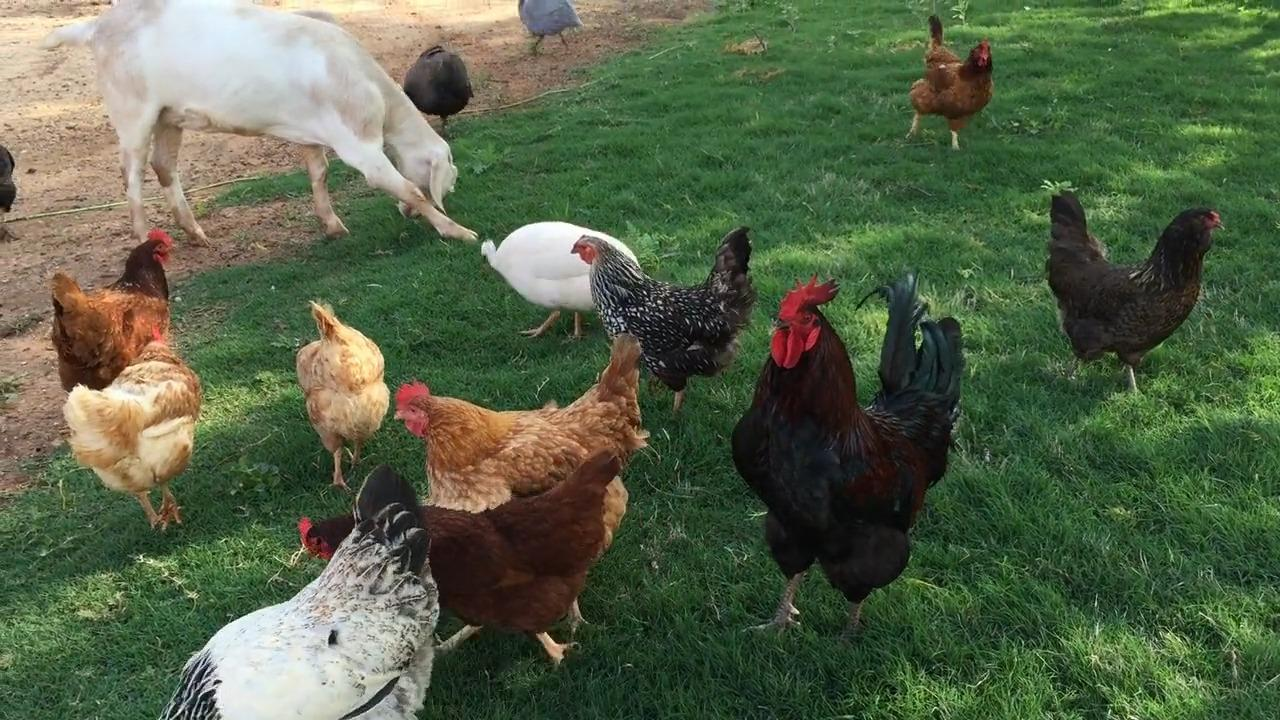Normal: (746, 273, 969, 621), (1052, 186, 1228, 386), (575, 233, 761, 402), (392, 376, 632, 500), (49, 237, 186, 366), (895, 17, 992, 151)
